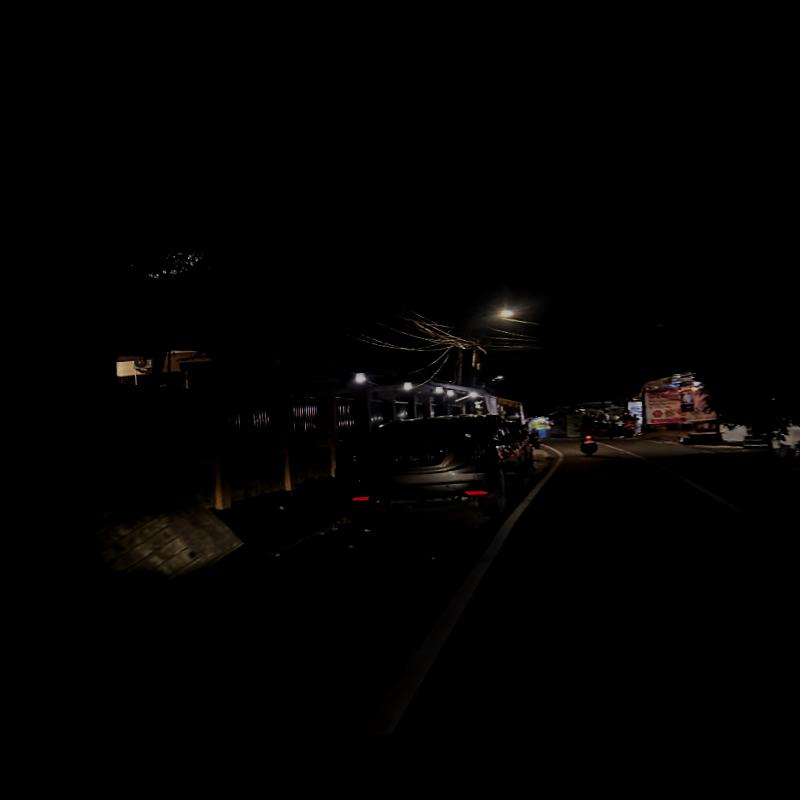license plate on a car: (390, 450, 447, 468)
